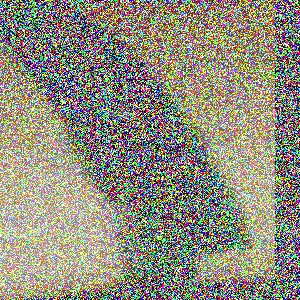Brown_Spot: (74, 56, 166, 152), (84, 177, 156, 242), (35, 14, 90, 56)
